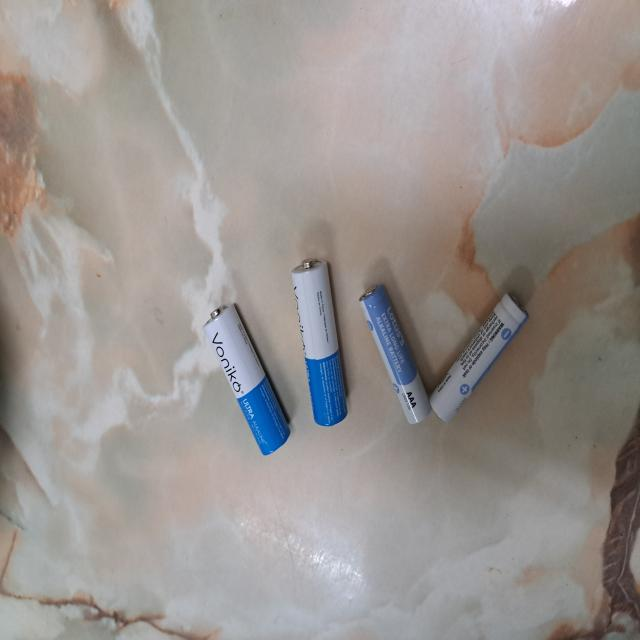battery: (206, 303, 290, 457), (428, 292, 527, 422), (360, 284, 431, 430), (292, 257, 352, 428)
